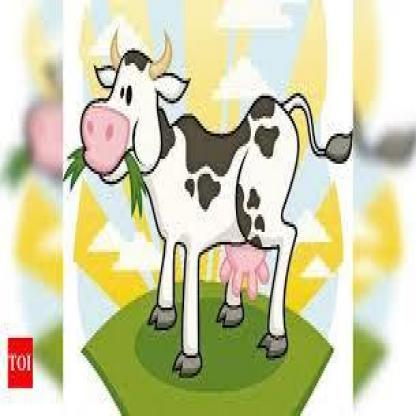cow: (80, 52, 299, 377)
